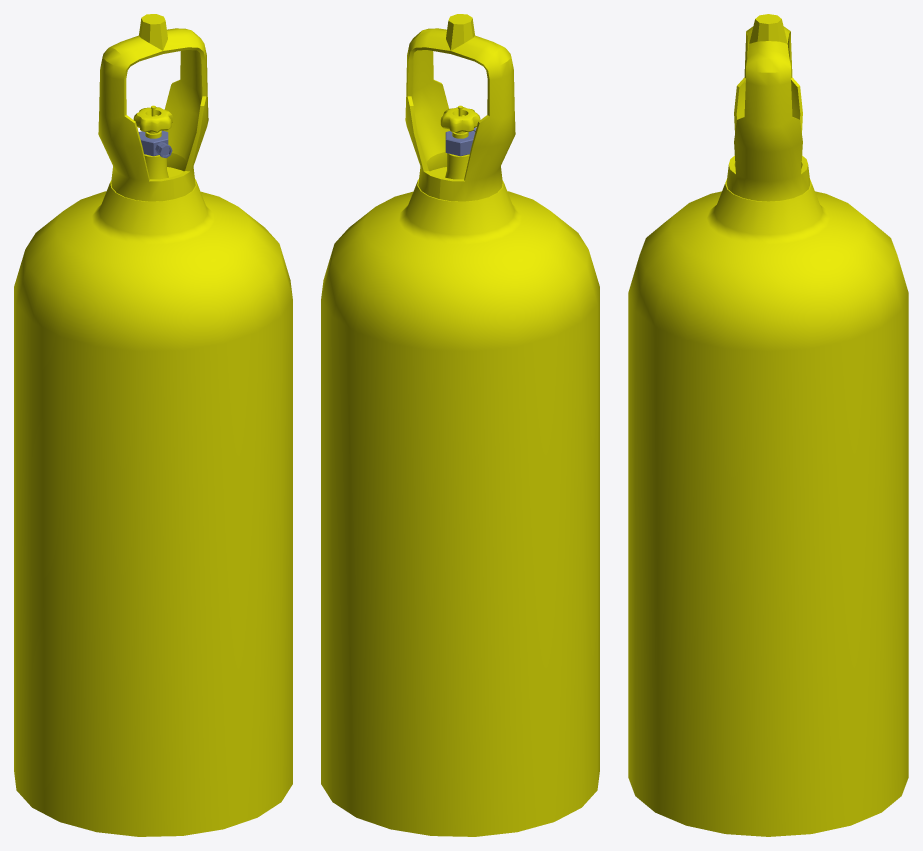
The model's file is seguranca-obj_cilindropequeno.fbx.
The picture shows the model from 3 angles, left to right: view 1: azimuth 30°, elevation 25°; view 2: azimuth 150°, elevation 25°; view 3: azimuth 270°, elevation 25°; orthographic projection.
Parts seen in each view (by area): view 1: Cilindro_Vermelho1; view 2: Cilindro_Vermelho1; view 3: Cilindro_Vermelho1.
Part boxes in pixels (box(x1,y1,x2,y2)): Cilindro_Vermelho1: box(14, 14, 292, 836); Cilindro_Vermelho1: box(321, 14, 599, 836); Cilindro_Vermelho1: box(628, 14, 908, 836).
Bounding box in the file's own units: 7.72 × 23.08 × 7.72.
